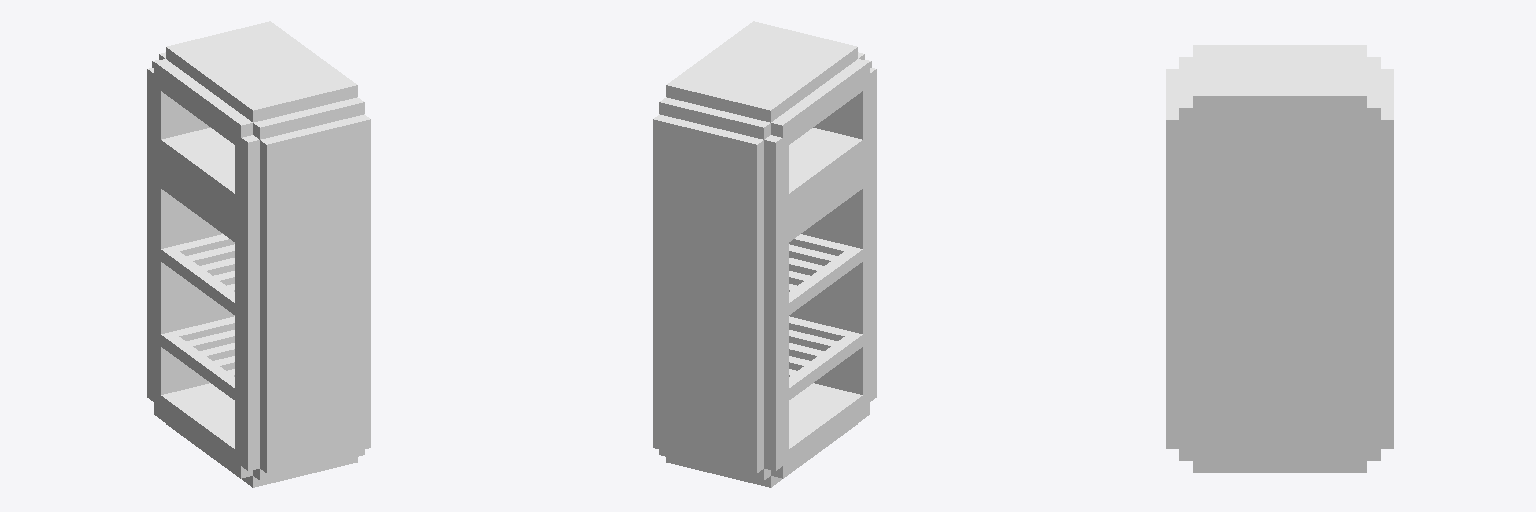
The model's file is Kitchen_cabinets-23.obj.
3 renders of one model, left to right at view 1: azimuth 30°, elevation 25°; view 2: azimuth 150°, elevation 25°; view 3: azimuth 270°, elevation 25°, orthographic.
Parts seen in each view (by area): view 1: object 1; view 2: object 1; view 3: object 1.
Part boxes in pixels (x1,y1,x2,y2): object 1: (147, 21, 370, 487); object 1: (653, 21, 876, 487); object 1: (1166, 45, 1393, 472).
Bounding box in the file's own units: 1 × 3.1 × 1.7.